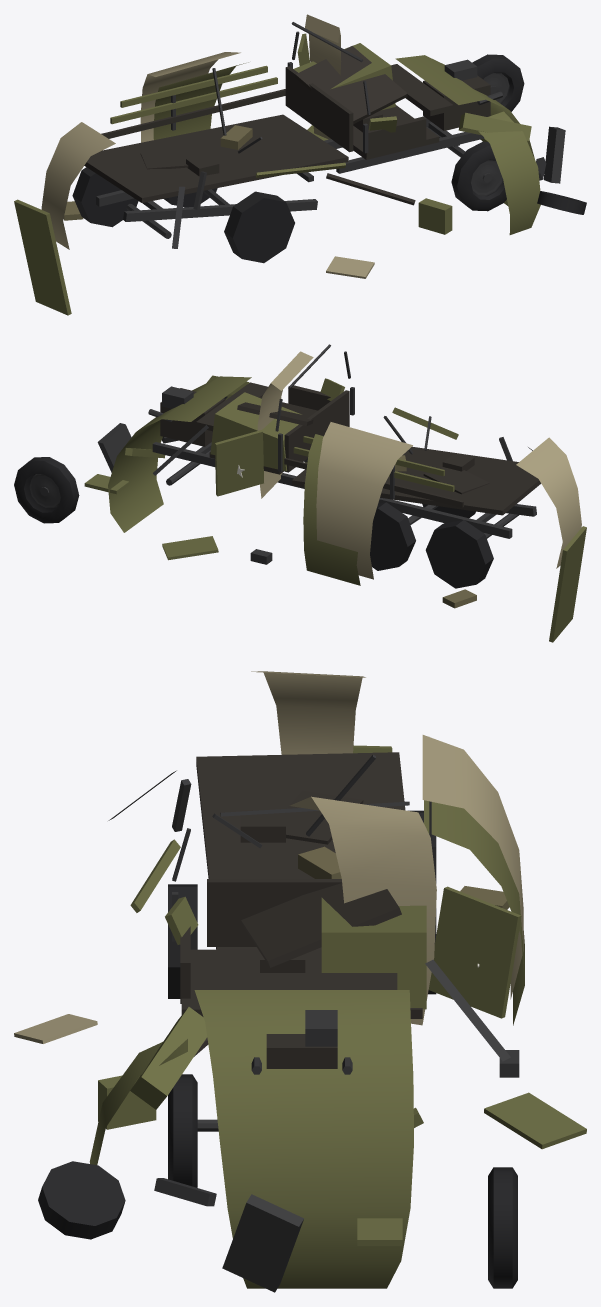
Rendered from army_truck_destroyed.glb.
The picture shows the model from 3 angles, top to bottom: view 1: azimuth 30°, elevation 25°; view 2: azimuth 150°, elevation 25°; view 3: azimuth 270°, elevation 25°; orthographic projection. The views are drawn at different scales.
Visible parts, largest first — view 1: ArmyTruck_Destroyed; view 2: ArmyTruck_Destroyed; view 3: ArmyTruck_Destroyed.
Part boxes in pixels (x1,y1,x2,y2): ArmyTruck_Destroyed: [14, 14, 586, 315]; ArmyTruck_Destroyed: [14, 344, 586, 642]; ArmyTruck_Destroyed: [14, 671, 586, 1292].
Size of the model in its own units: 8.14 by 3.16 by 4.42.
